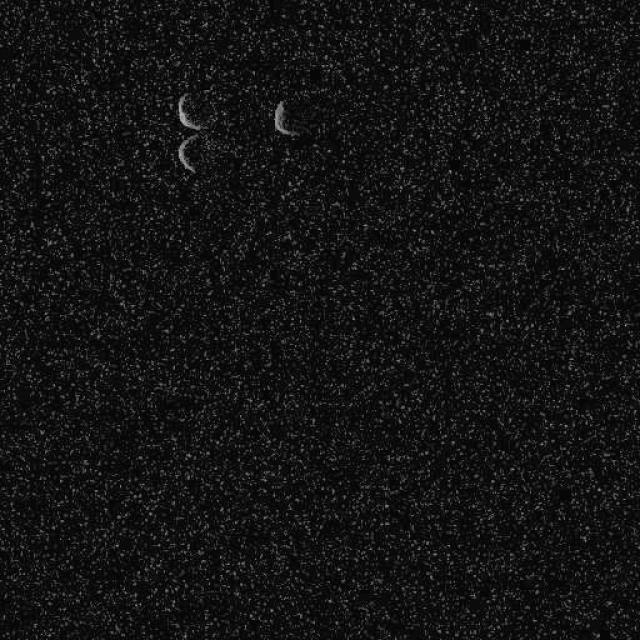D2: (175, 91, 207, 130), (271, 99, 300, 138), (176, 132, 202, 174)
